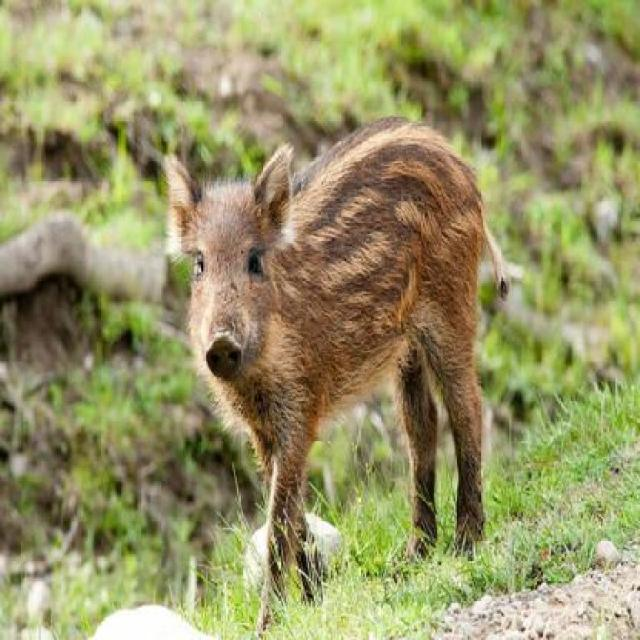wildboar: (159, 105, 516, 630)
